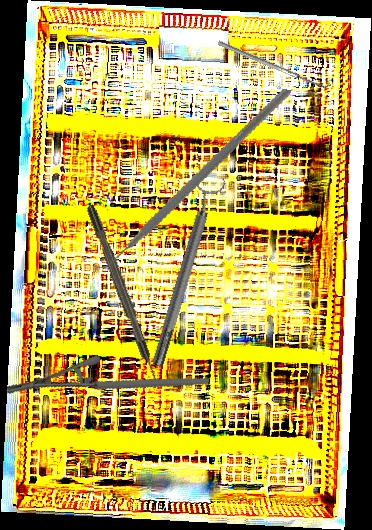Chopper: (83, 52, 292, 303)
Fixation Ring: (140, 169, 230, 371)
Hook Surgical: (85, 203, 164, 392)
Needle Holder: (5, 322, 210, 450)
Spatula Surgical: (217, 36, 332, 92)
